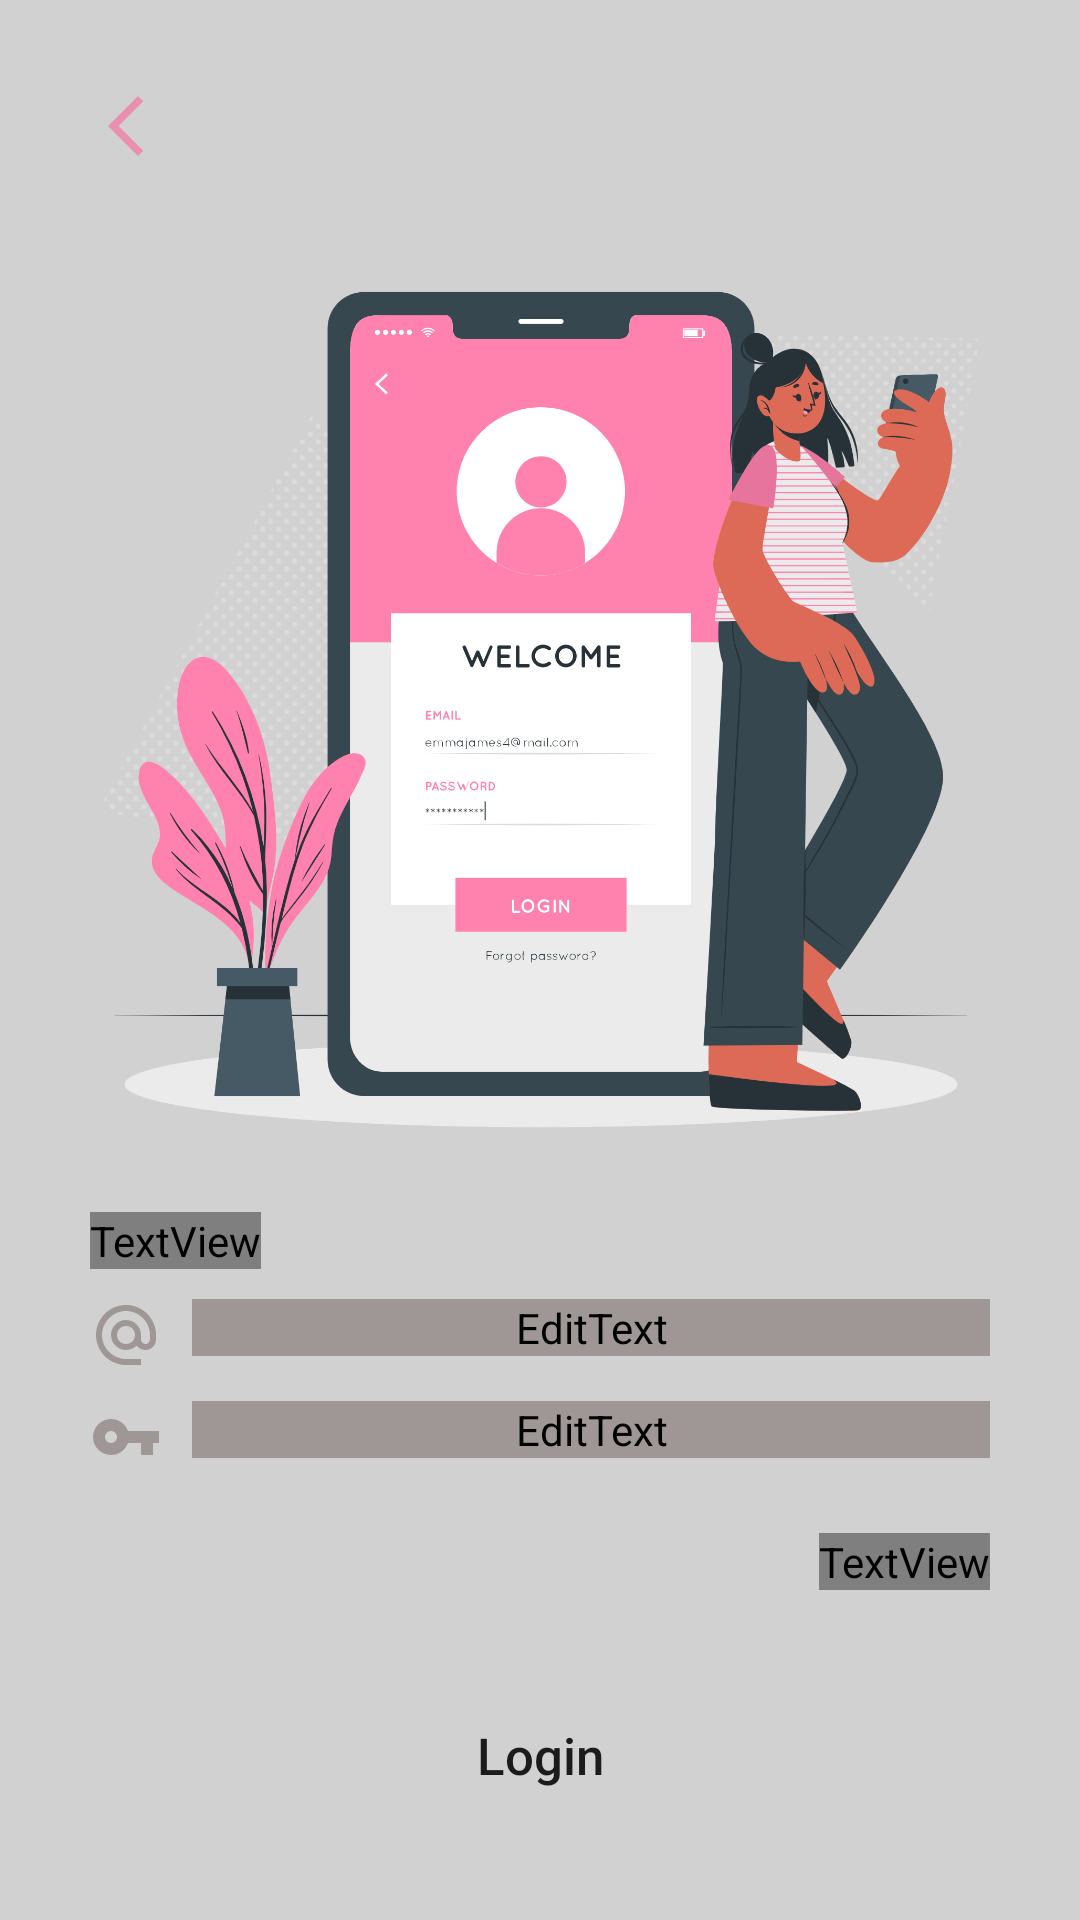

Point at icon controls on the screen. Image size 1080w x 1920h, points as point (x, y).
alternate email: point (126, 1335)
arrow back: point (125, 126)
vpn key: point (126, 1437)
